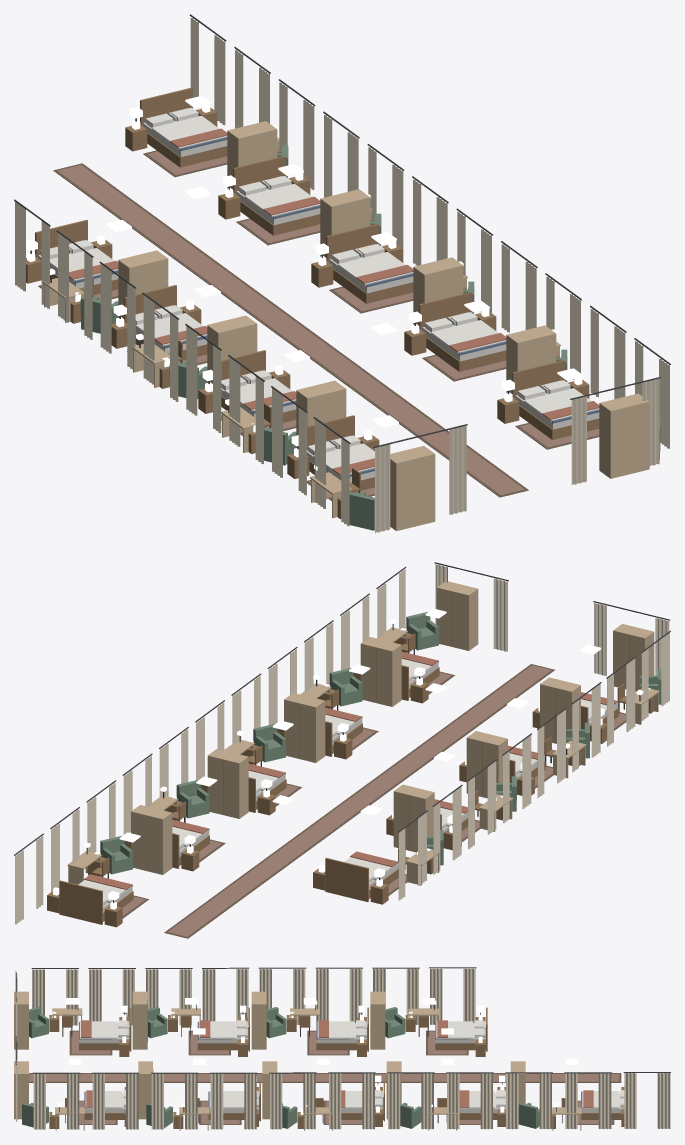
File: fine-s1.glb
3 renders of one model, top to bottom at view 1: azimuth 30°, elevation 25°; view 2: azimuth 150°, elevation 25°; view 3: azimuth 270°, elevation 25°, orthographic. The views are drawn at different scales.
Parts seen in each view (by area): view 1: soft-s1, dresser.008, dresser.003, bed-frame.007, bed-frame.005, bed-frame.006, bed-frame.004, bed-frame.008, dresser.007, dresser.006, dresser.004, dresser.005 (+9 smaller); view 2: soft-s1, dresser.006, dresser.004, dresser.008, dresser.007, dresser.005, dresser.000, dresser.003, dresser.001, bed-frame.004, bed-frame.000, dresser.002 (+9 smaller); view 3: soft-s1, dresser.000, dresser.001, dresser.002, dresser.003, dresser.007, dresser.008, bed-frame.000, bed-frame.003, bed-frame.001, bed-frame.002, dresser.006 (+17 smaller).
Part boxes in pixels (x1=…): soft-s1: x1=14, y1=14, x2=670, y2=533; dresser.008: x1=599, y1=393, x2=649, y2=478; dresser.003: x1=390, y1=446, x2=435, y2=530; bed-frame.007: x1=419, y1=292, x2=506, y2=371; bed-frame.005: x1=233, y1=155, x2=320, y2=235; bed-frame.006: x1=326, y1=223, x2=413, y2=303; bed-frame.004: x1=140, y1=87, x2=227, y2=167; bed-frame.008: x1=512, y1=360, x2=599, y2=439; dresser.007: x1=506, y1=325, x2=556, y2=393; dresser.006: x1=413, y1=257, x2=463, y2=325; dresser.004: x1=227, y1=121, x2=277, y2=189; dresser.005: x1=320, y1=189, x2=370, y2=257; soft-s1: x1=14, y1=562, x2=670, y2=938; dresser.006: x1=284, y1=693, x2=325, y2=762; dresser.004: x1=131, y1=805, x2=172, y2=874; dresser.008: x1=437, y1=581, x2=478, y2=650; dresser.007: x1=360, y1=637, x2=401, y2=706; dresser.005: x1=207, y1=749, x2=248, y2=818; dresser.000: x1=393, y1=784, x2=434, y2=852; dresser.003: x1=613, y1=624, x2=654, y2=691; dresser.001: x1=466, y1=731, x2=507, y2=798; bed-frame.004: x1=59, y1=880, x2=133, y2=924; bed-frame.000: x1=325, y1=857, x2=398, y2=901; dresser.002: x1=540, y1=677, x2=580, y2=743; soft-s1: x1=15, y1=967, x2=670, y2=1129; dresser.000: x1=370, y1=991, x2=385, y2=1049; dresser.001: x1=251, y1=991, x2=266, y2=1049; dresser.002: x1=132, y1=991, x2=147, y2=1049; dresser.003: x1=14, y1=991, x2=28, y2=1049; dresser.007: x1=138, y1=1061, x2=153, y2=1119; dresser.008: x1=14, y1=1061, x2=28, y2=1119; bed-frame.000: x1=435, y1=1007, x2=487, y2=1051; bed-frame.003: x1=79, y1=1007, x2=131, y2=1051; bed-frame.001: x1=316, y1=1007, x2=368, y2=1051; bed-frame.002: x1=197, y1=1007, x2=249, y2=1051; dresser.006: x1=262, y1=1061, x2=277, y2=1119.
Size of the model in its own units: 10.02 by 2.61 by 26.32.
